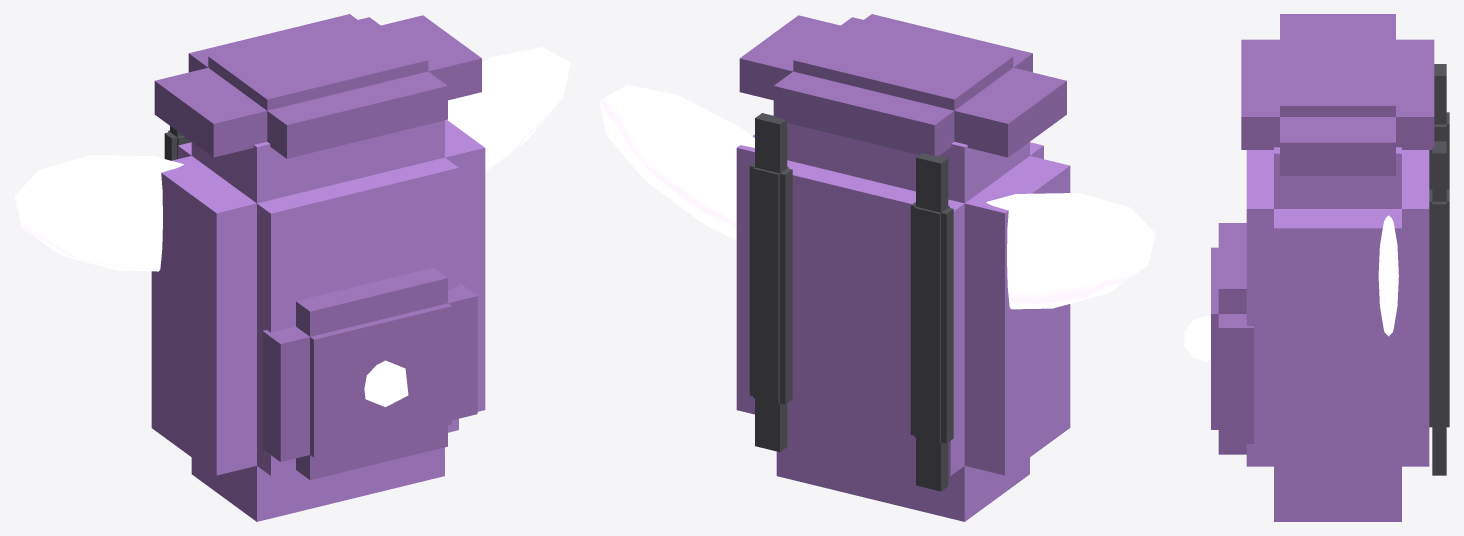
The model's file is equip_backpack_4.glb.
3 renders of one model, left to right at view 1: azimuth 30°, elevation 25°; view 2: azimuth 150°, elevation 25°; view 3: azimuth 270°, elevation 25°, orthographic.
Visible parts, largest first — view 1: box; view 2: box; view 3: box.
Part boxes in pixels (x1=…): box: x1=14, y1=14, x2=570, y2=521; box: x1=599, y1=14, x2=1155, y2=521; box: x1=1184, y1=14, x2=1449, y2=521.
Bounding box in the file's own units: 1.24 × 0.89 × 0.5225.
